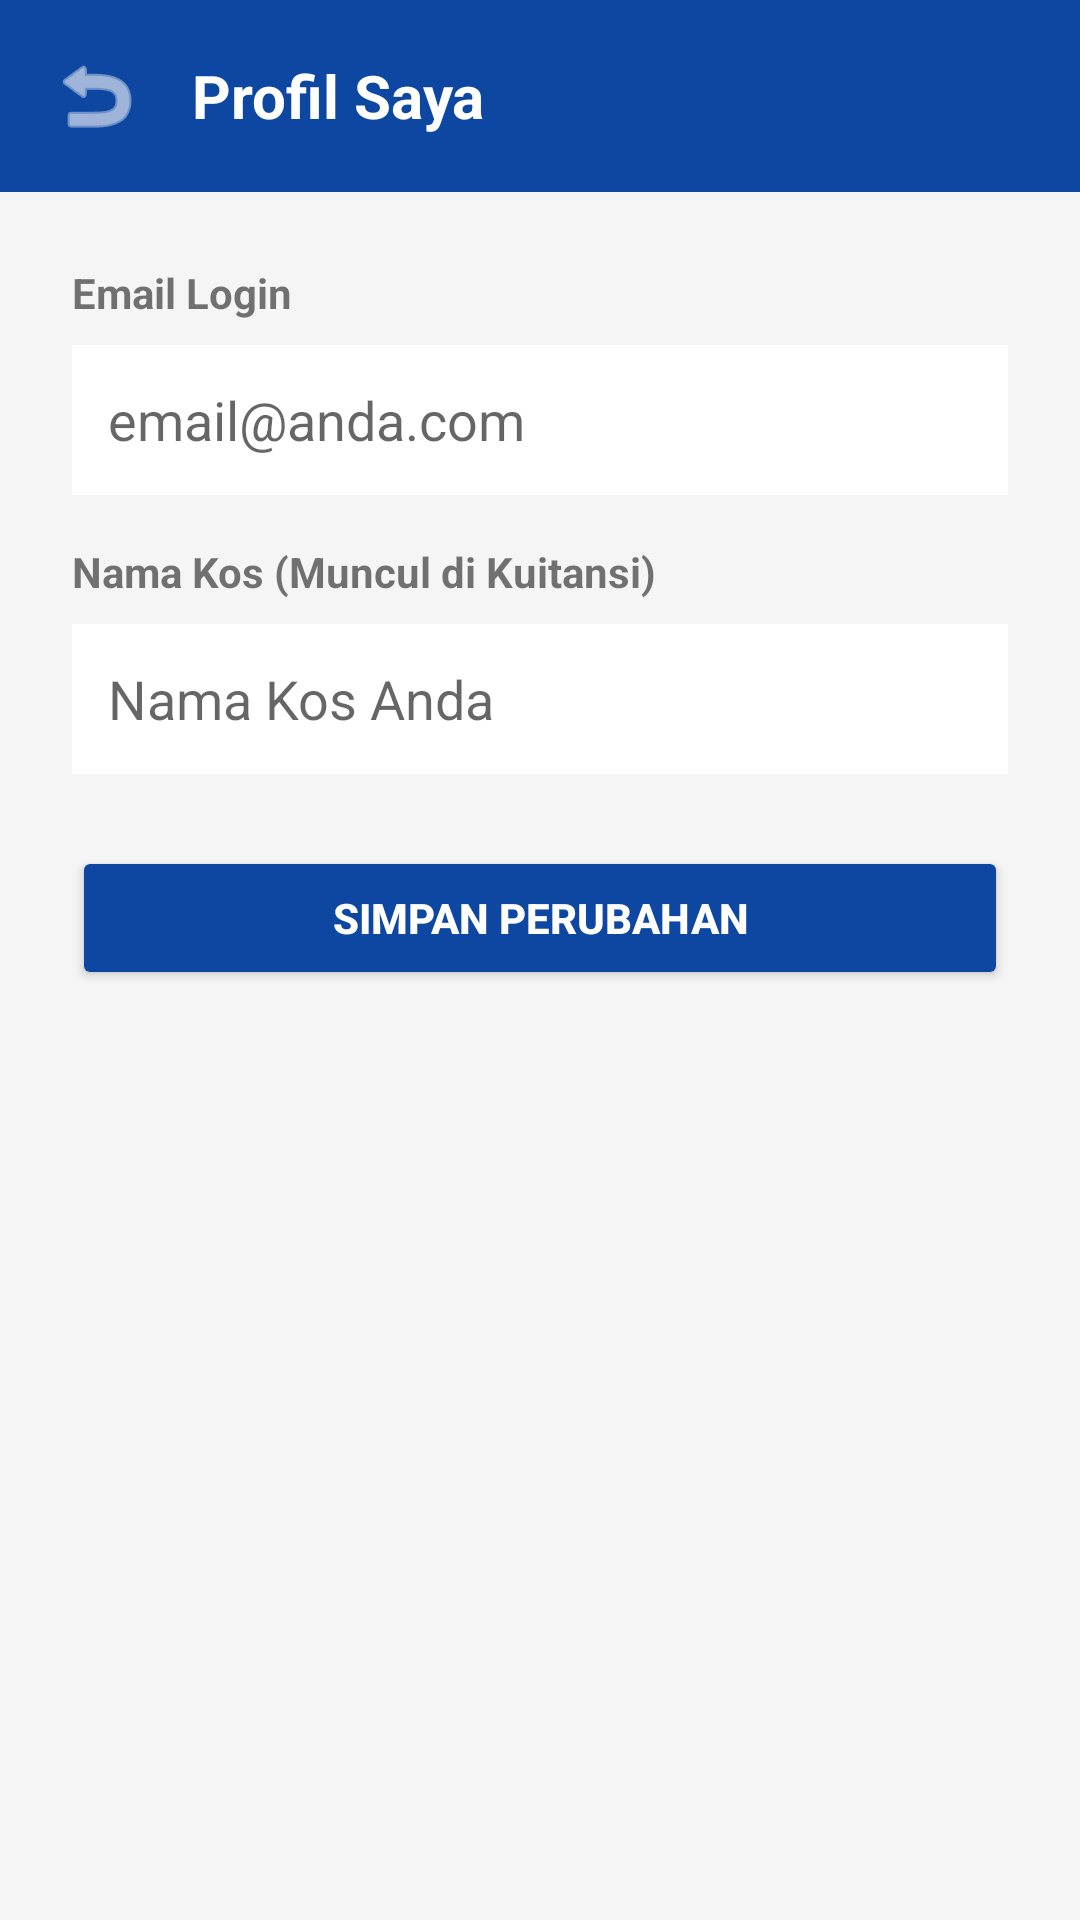

Icons on this 1080w x 1920h Android screen, each with the point to tap as (x=x, y=y):
Kembali: (x=97, y=96)
